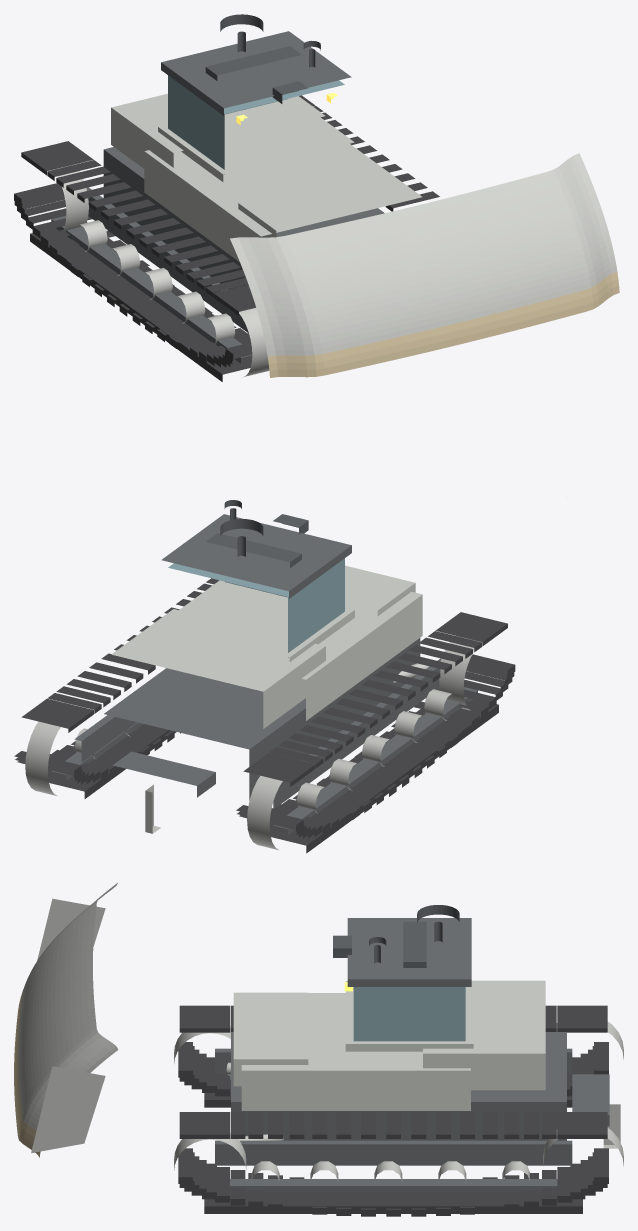
File: dozer.glb
3 renders of one model, top to bottom at view 1: azimuth 30°, elevation 25°; view 2: azimuth 150°, elevation 25°; view 3: azimuth 270°, elevation 25°, orthographic.
Visible parts, largest first — view 1: moldboard, hull-paint, track-left-shoes, hull-dark, cutting-edge, track-left-frame, track-left-wheels, cab-glass, sensors, track-right-shoes; view 2: hull-paint, hull-dark, track-left-shoes, track-right-shoes, track-left-frame, track-left-wheels, cab-glass, sensors, track-right-frame, track-right-wheels, hull-steel; view 3: hull-paint, track-right-shoes, moldboard, hull-dark, track-right-frame, track-left-shoes, cab-glass, sensors, track-right-wheels, cutting-edge, hull-steel, track-left-wheels (+1 smaller).
Boxes of the visible parts, x1,y1,x2,y2 form: moldboard: [230, 153, 617, 356]; hull-paint: [111, 93, 422, 261]; track-left-shoes: [14, 141, 255, 381]; hull-dark: [103, 31, 384, 289]; cutting-edge: [267, 271, 619, 377]; track-left-frame: [51, 187, 251, 363]; track-left-wheels: [54, 164, 269, 376]; cab-glass: [168, 75, 344, 174]; sensors: [205, 14, 320, 103]; track-right-shoes: [299, 95, 439, 211]; hull-paint: [111, 565, 422, 728]; hull-dark: [104, 514, 420, 800]; track-left-shoes: [236, 612, 515, 853]; track-right-shoes: [14, 578, 218, 798]; track-left-frame: [273, 658, 477, 834]; track-left-wheels: [247, 636, 481, 849]; cab-glass: [168, 558, 344, 657]; sensors: [206, 500, 308, 567]; track-right-frame: [51, 715, 143, 780]; track-right-wheels: [25, 721, 130, 795]; hull-steel: [145, 663, 428, 833]; hull-paint: [233, 980, 545, 1110]; track-right-shoes: [178, 1112, 608, 1216]; moldboard: [18, 883, 118, 1153]; hull-dark: [231, 918, 609, 1140]; track-right-frame: [215, 1140, 572, 1191]; track-left-shoes: [178, 1005, 608, 1107]; cab-glass: [353, 987, 465, 1041]; sensors: [333, 905, 459, 967]; track-right-wheels: [174, 1128, 623, 1181]; cutting-edge: [14, 993, 40, 1157]; hull-steel: [226, 1062, 620, 1148]; track-left-wheels: [174, 1022, 623, 1063].
Size of the model in its own units: 3.72 by 2.44 by 5.72.
